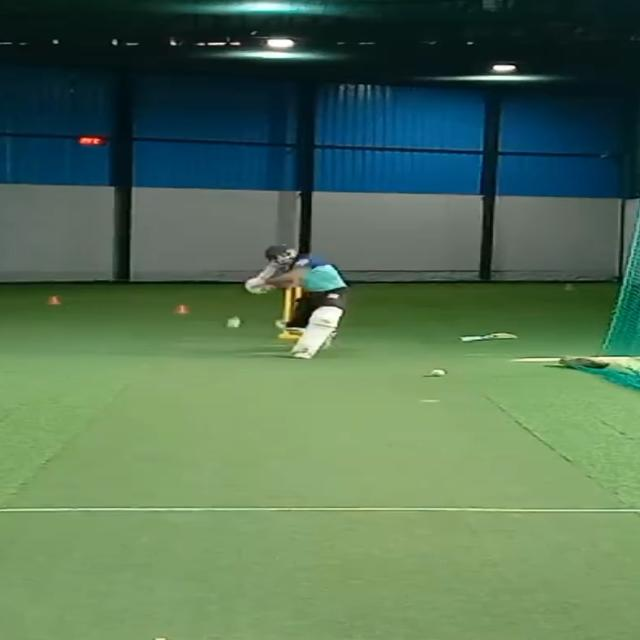ball: (223, 317, 244, 329), (428, 368, 448, 378)
stump: (281, 288, 305, 339)
